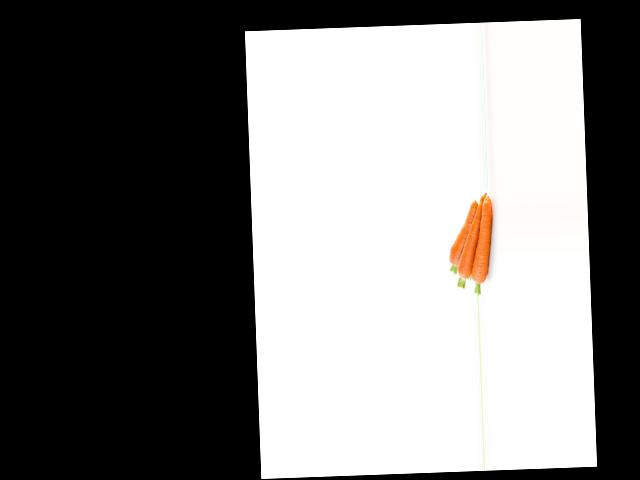carrot: (471, 196, 494, 289)
